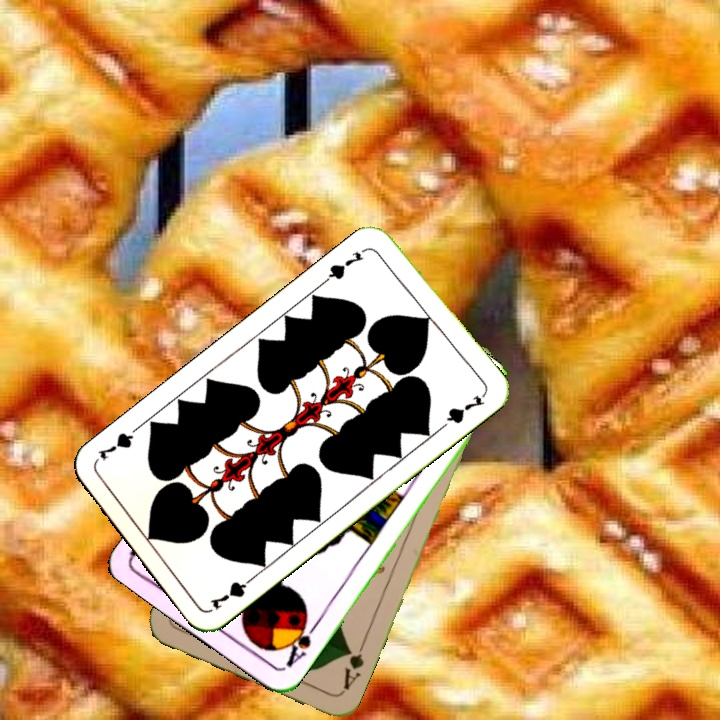G7: (206, 570, 259, 613), (321, 247, 366, 285)
GA: (339, 637, 369, 693)
SA: (280, 614, 320, 670)
